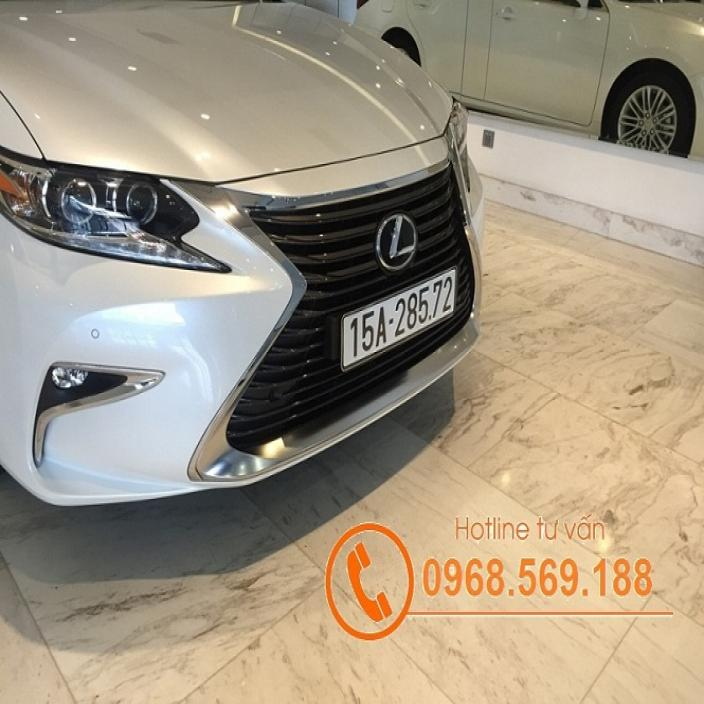numplate: (341, 267, 457, 373)
